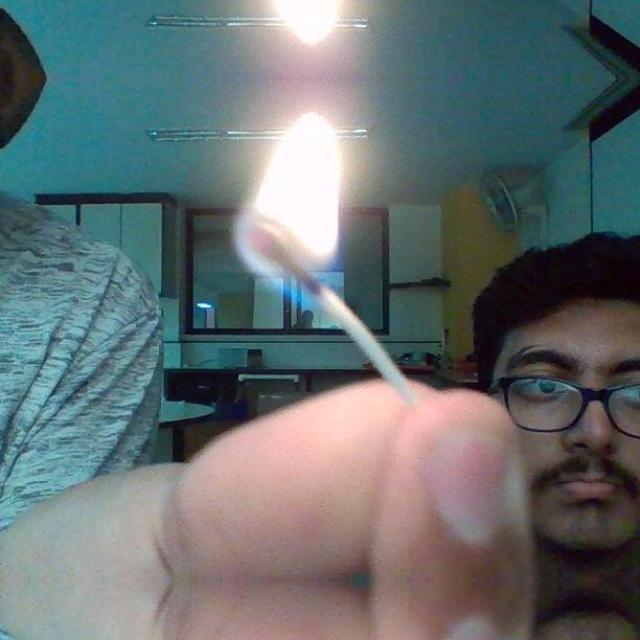smoke: (224, 112, 354, 313), (223, 0, 354, 45)
